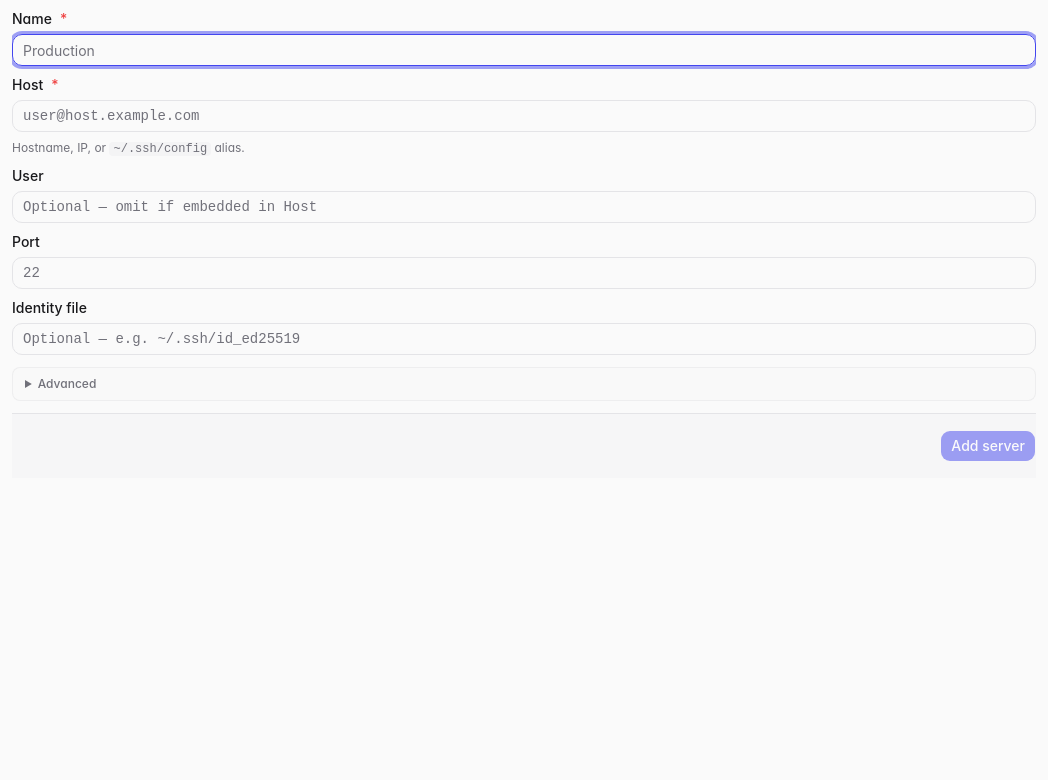
it: AddServerForm — Advanced disclosure › hides Remote port until Advanced is expanded
Click the heading "Advanced" at (67, 384), box [38,376,96,391]
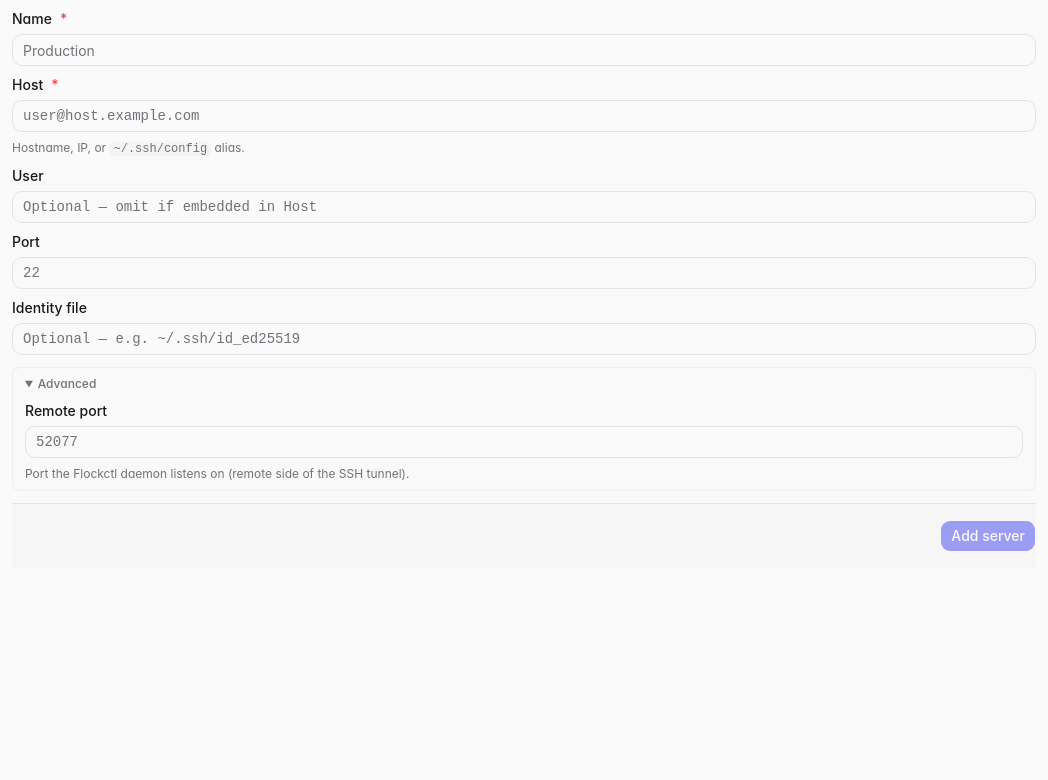
Now the number field labelled "Remote port" is shown, box [25,426,1023,458]
